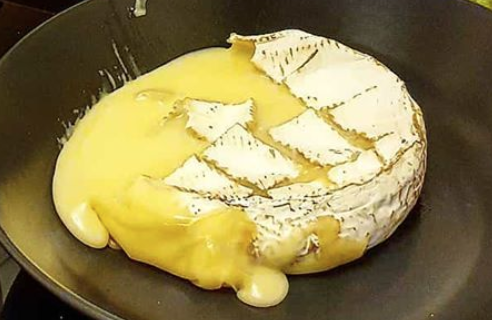camembert: (51, 27, 429, 308)
